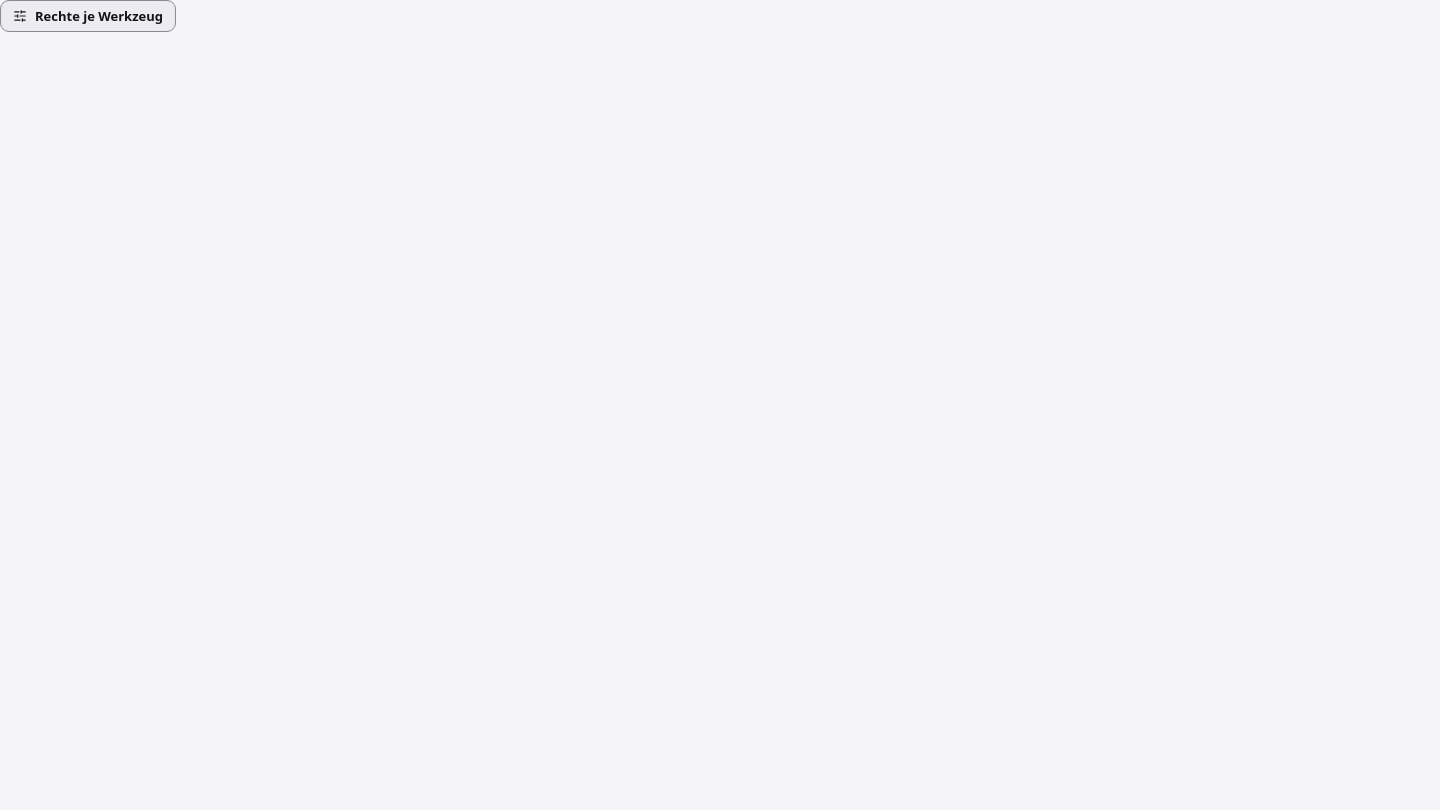
Test: Rechte je Werkzeug › opens with a small secondary button and lists every tool but request_status, in the app's words
The width and height of the screenshot is (1440, 810).
Click the button "Rechte je Werkzeug": [88, 16] box [0,0,176,32]
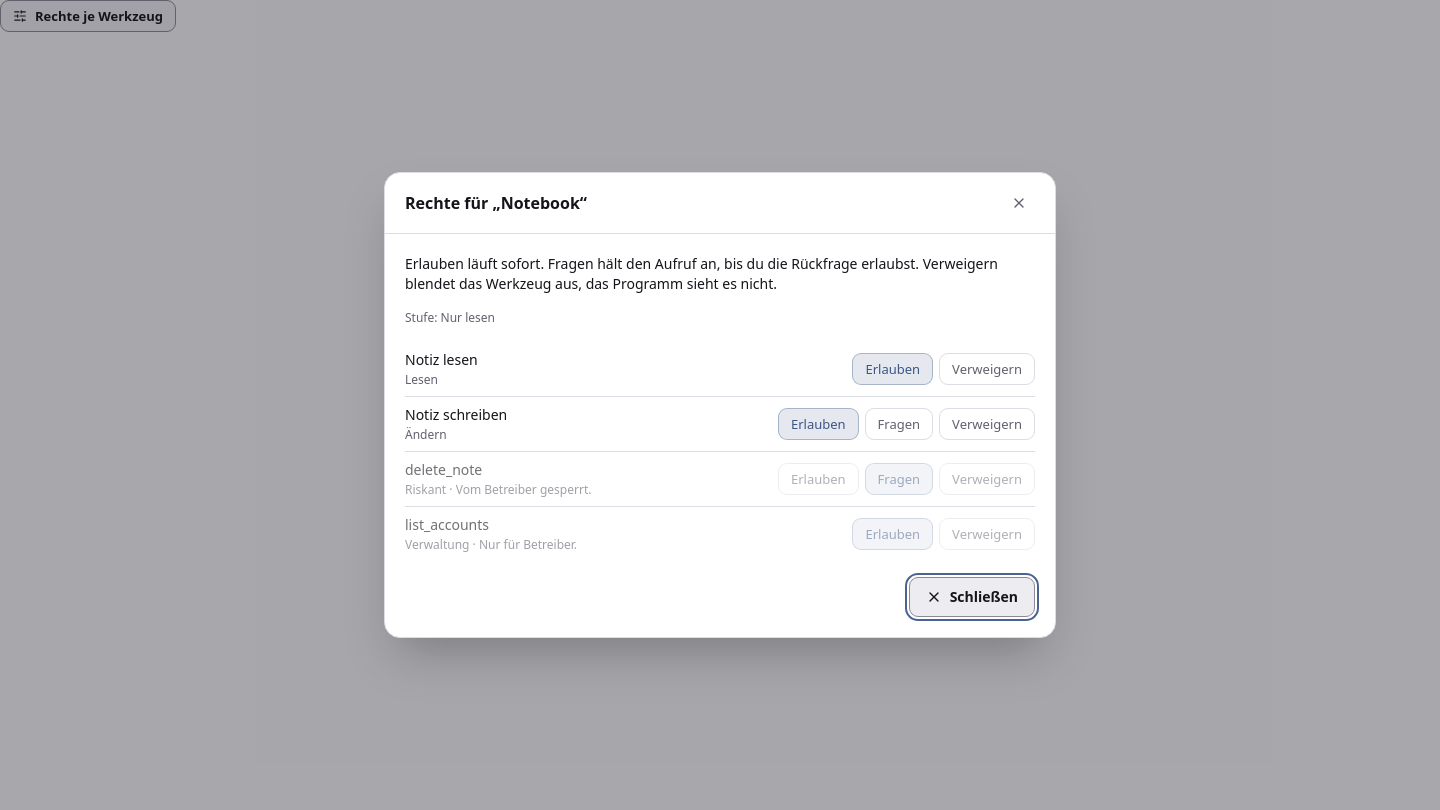
Expected: the dialog with test id "tool-rights-dialog" shows "Rechte für „Notebook“", [405,192,587,214]
Expected: the list item with test id "tool-right-row" shows "Notiz lesen", [405,350,478,369]
Expected: the list item with test id "tool-right-row" shows "Ändern", [405,426,447,443]
